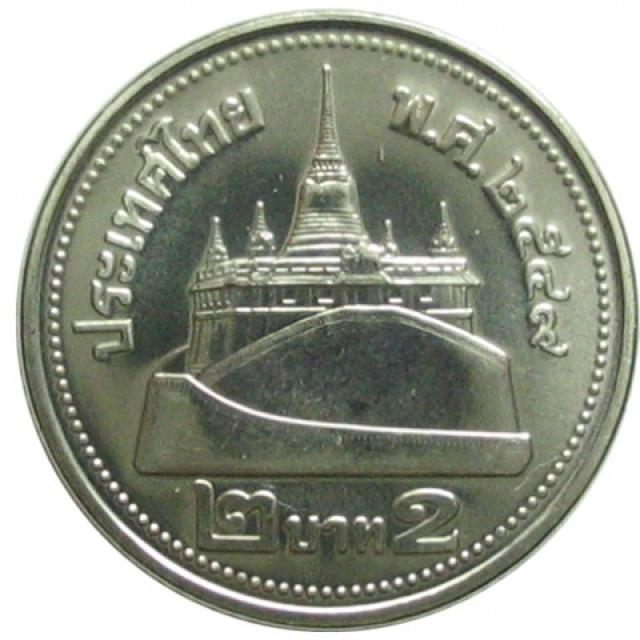2 Bath: (14, 1, 640, 640)
